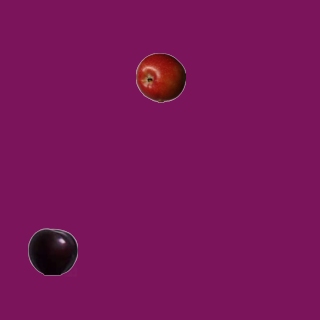Apple Braeburn: (135, 52, 185, 102)
Cherry Wax Black: (27, 226, 77, 276)
